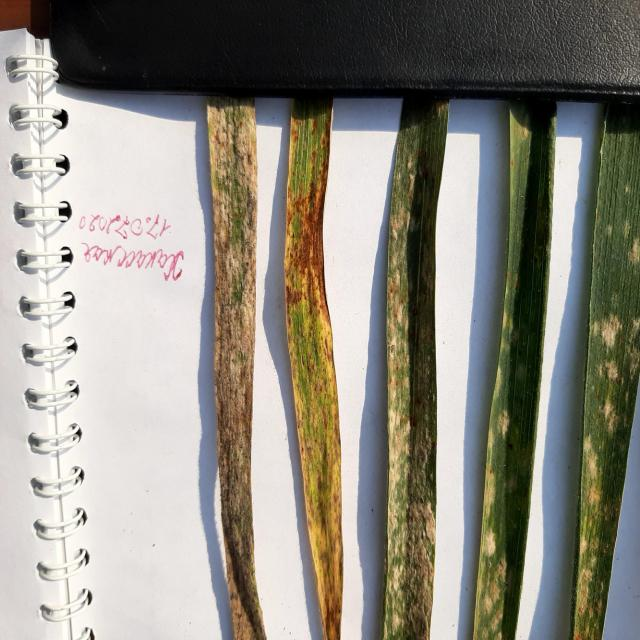wheat-powdery-mildew: (471, 104, 556, 640), (572, 102, 640, 640), (382, 98, 449, 640), (284, 100, 344, 640), (206, 103, 266, 640)
